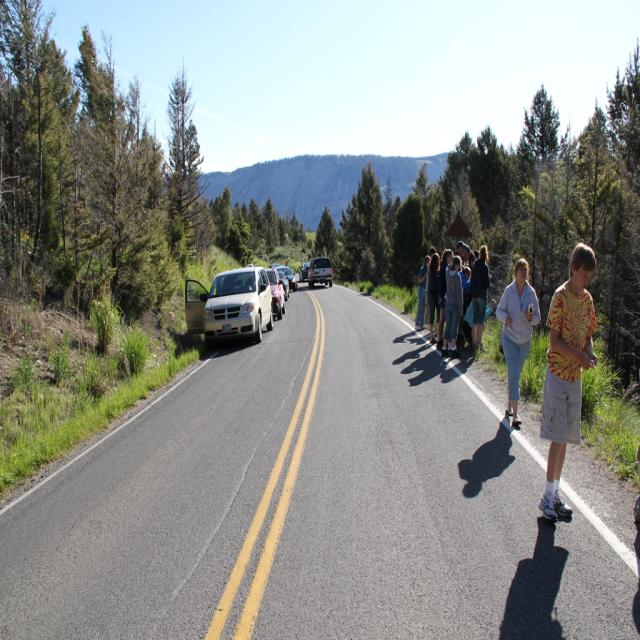car: (183, 256, 273, 348), (307, 253, 334, 285), (308, 254, 332, 285)
